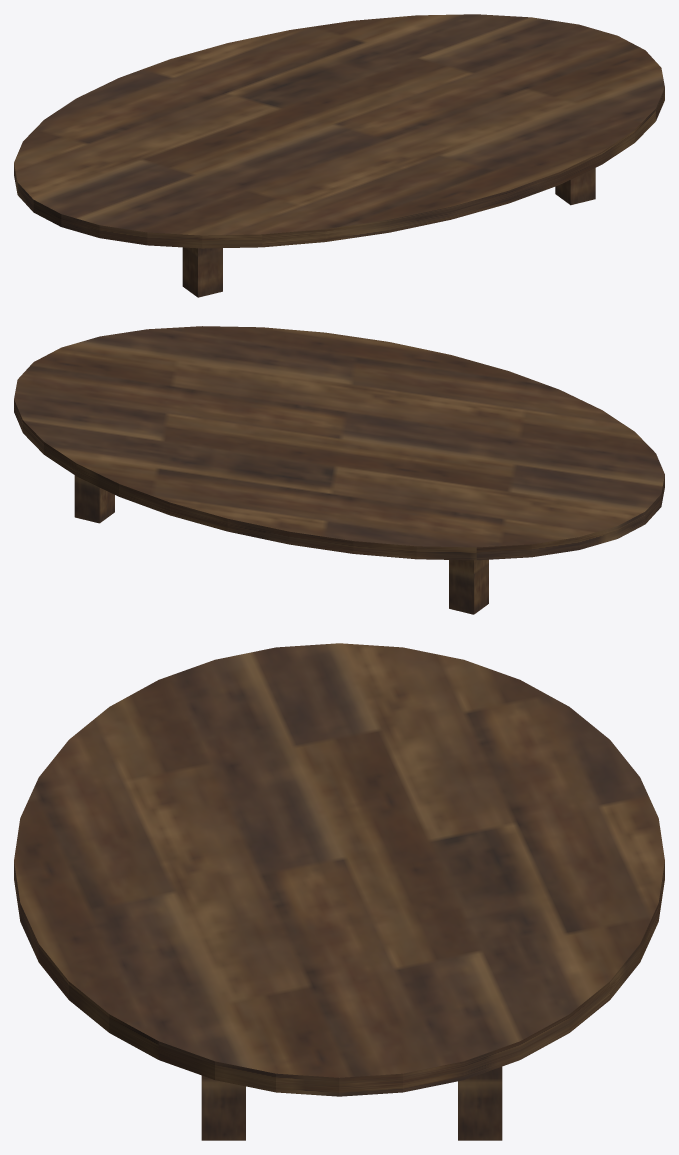
The model's file is CoffeeTable.fbx.
3 renders of one model, top to bottom at view 1: azimuth 30°, elevation 25°; view 2: azimuth 150°, elevation 25°; view 3: azimuth 270°, elevation 25°, orthographic. The views are drawn at different scales.
Visible parts, largest first — view 1: Cylinder, Cube.003, Cube; view 2: Cylinder, Cube.002, Cube.001; view 3: Cylinder, Cube.001, Cube.
Part boxes in pixels (x1=…): Cylinder: x1=14, y1=14, x2=664, y2=248; Cube.003: x1=182, y1=247, x2=222, y2=297; Cube: x1=555, y1=168, x2=595, y2=205; Cylinder: x1=14, y1=326, x2=664, y2=560; Cube.002: x1=449, y1=559, x2=488, y2=614; Cube.001: x1=74, y1=475, x2=114, y2=523; Cylinder: x1=14, y1=643, x2=664, y2=1096; Cube.001: x1=458, y1=1066, x2=502, y2=1140; Cube: x1=201, y1=1075, x2=245, y2=1140.
Size of the model in its own units: 1179 by 167 by 746.
5 materials, 5 textured.
